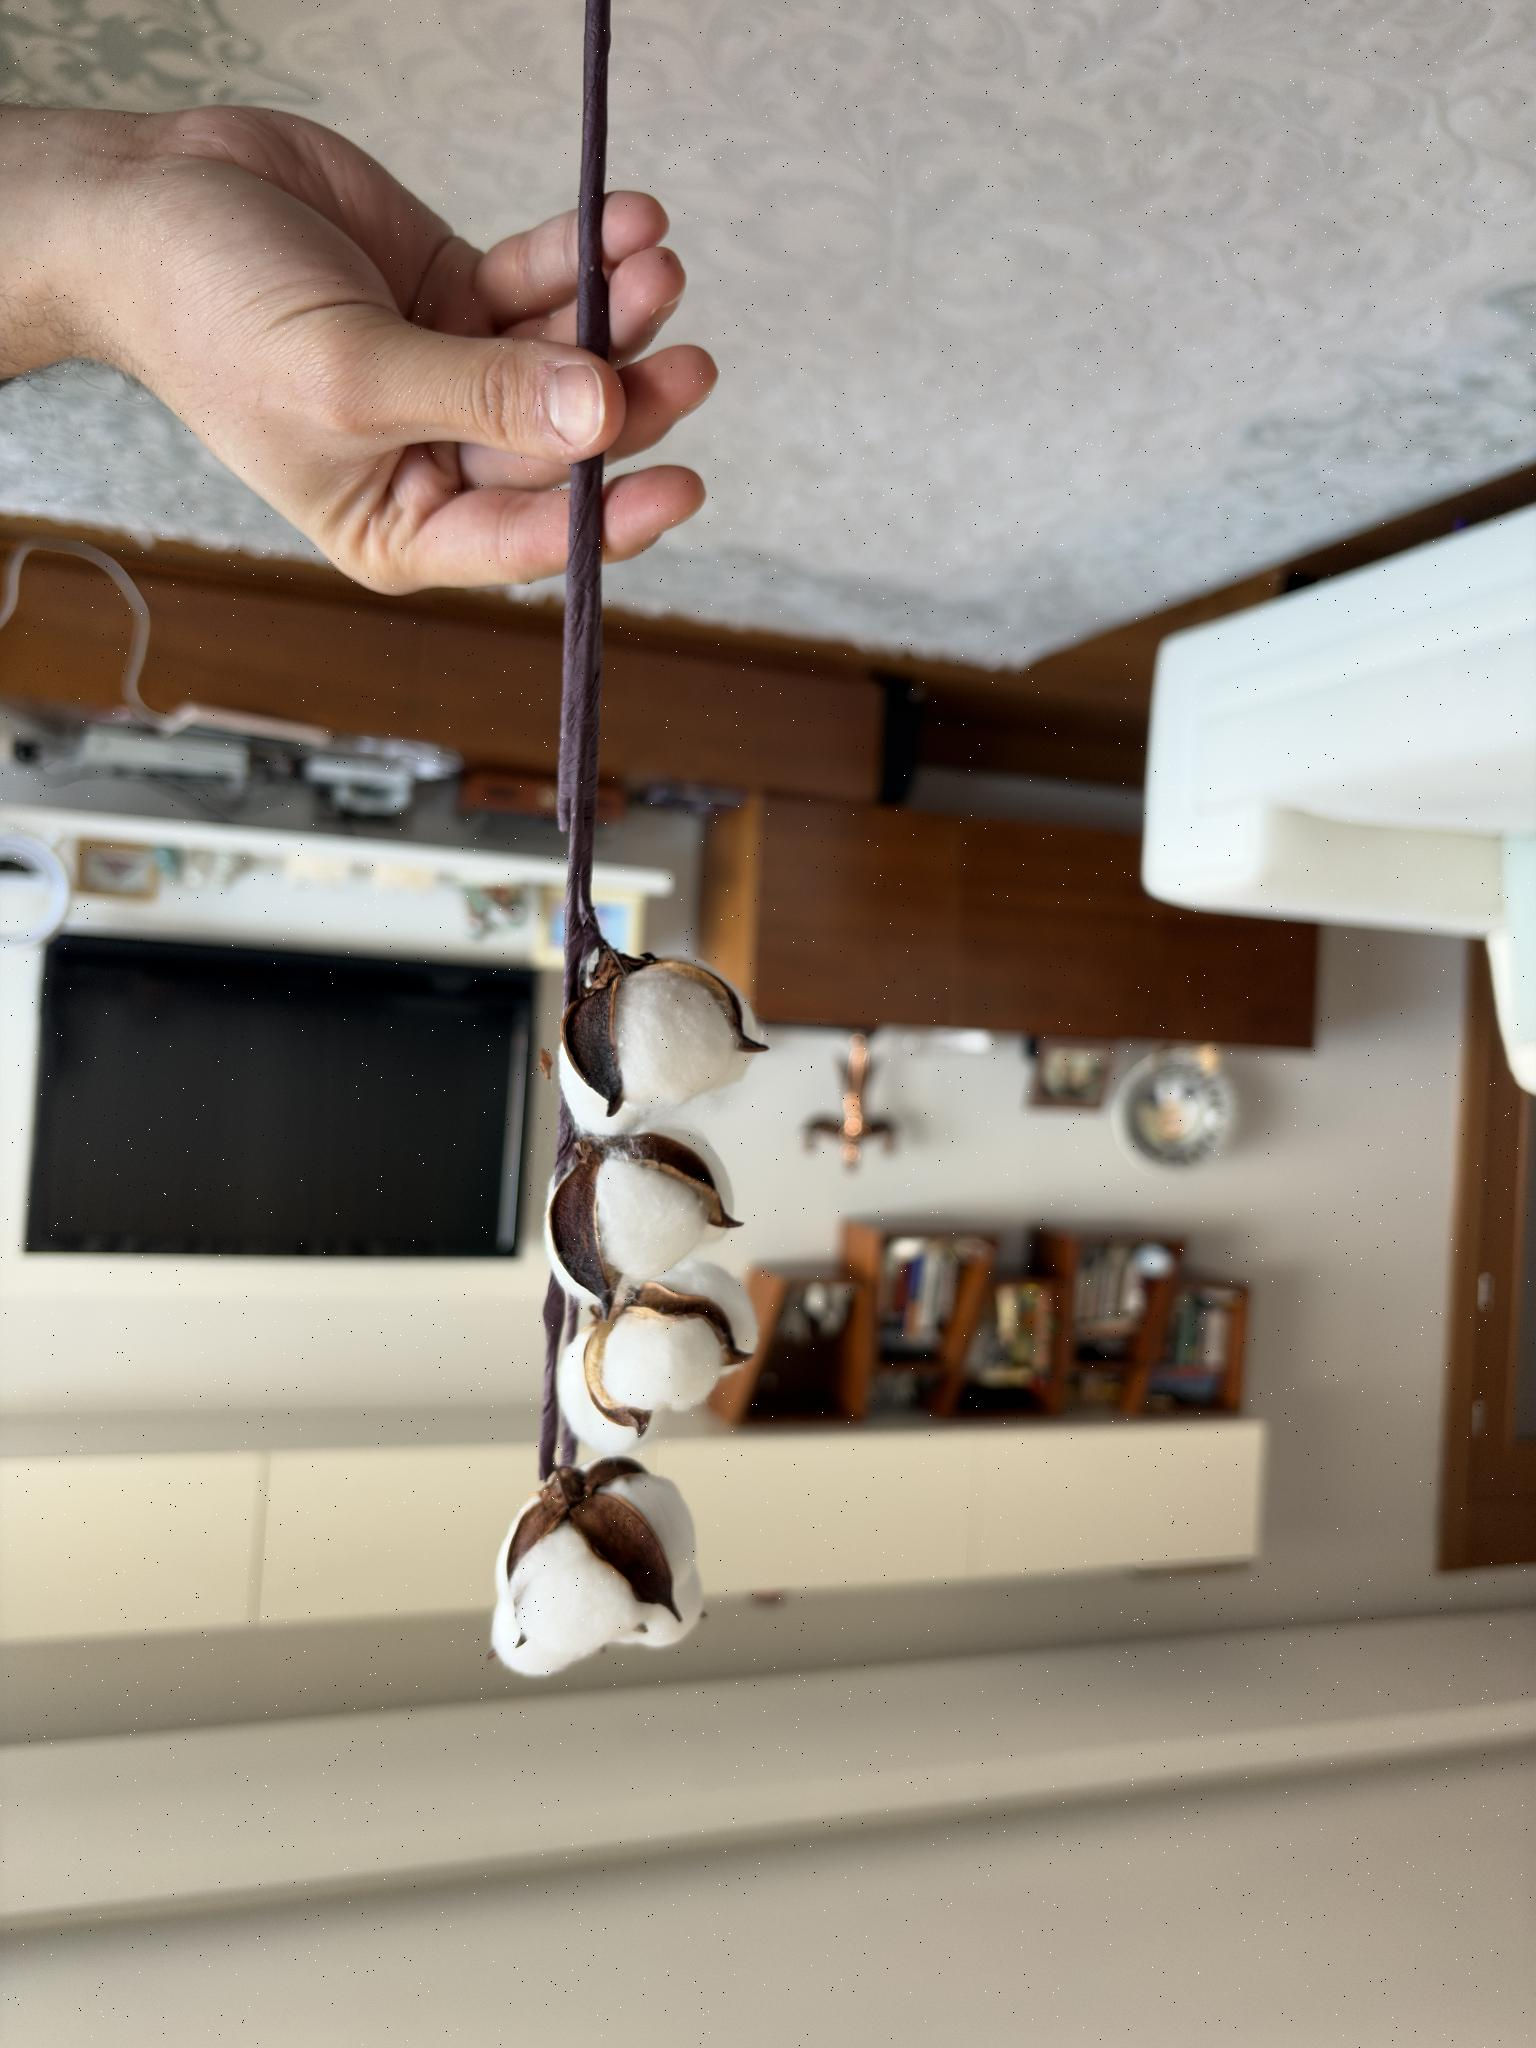cotton_boll: (511, 1521, 641, 1661), (615, 968, 737, 1109), (595, 1156, 707, 1280), (602, 1306, 724, 1409), (557, 1327, 644, 1456), (602, 1471, 697, 1582), (658, 1258, 758, 1356), (558, 1050, 663, 1137), (657, 1122, 736, 1211), (490, 1596, 576, 1677), (618, 1569, 702, 1648), (544, 1214, 600, 1306), (495, 1498, 536, 1596), (731, 984, 765, 1048), (726, 1051, 752, 1084), (695, 1227, 726, 1251)
cotton_boll-cluster: (486, 1458, 710, 1684), (549, 1258, 760, 1461), (552, 947, 773, 1140), (541, 1121, 745, 1309)
